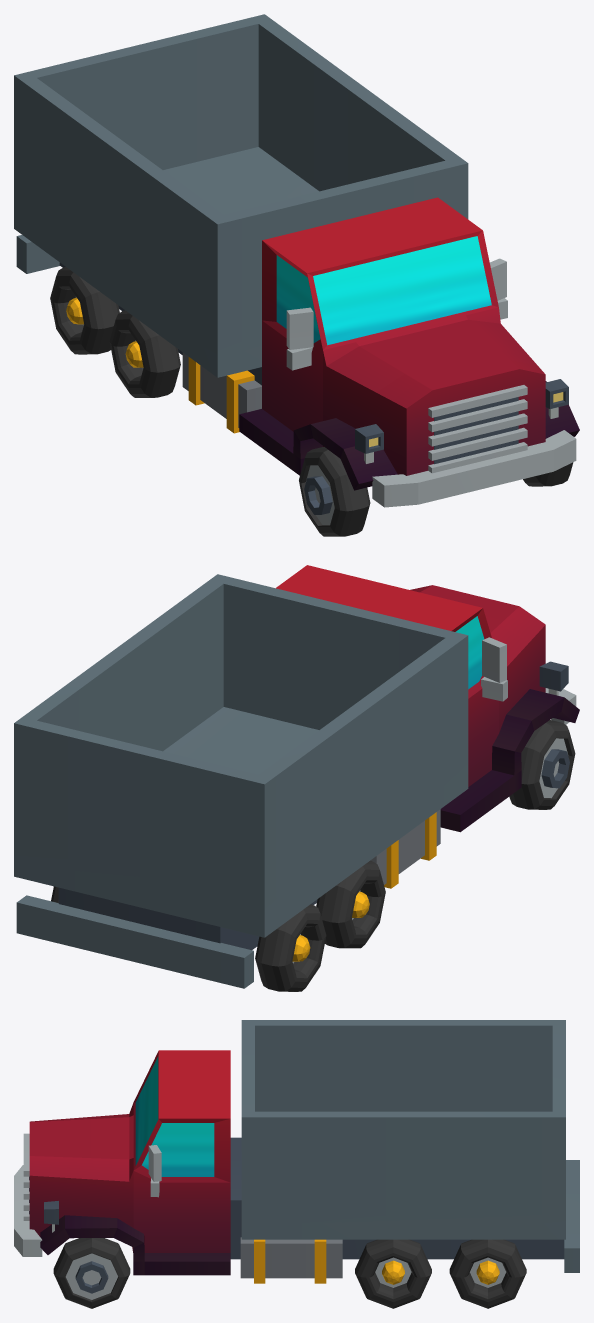
Rendered from Truck.fbx.
3 views of the same model, one above another, from view 1: azimuth 30°, elevation 25°; view 2: azimuth 150°, elevation 25°; view 3: azimuth 270°, elevation 25° (orthographic). The views are drawn at different scales.
Visible parts, largest first — view 1: Truck.014, Truck.022, Truck.024, Truck.025; view 2: Truck.014, Truck.025, Truck.024, Truck.022; view 3: Truck.014, Truck.022, Truck.025, Truck.024.
Boxes of the visible parts, x1,y1,x2,y2 form: Truck.014: [14, 14, 579, 507]; Truck.022: [299, 447, 573, 536]; Truck.024: [109, 310, 180, 397]; Truck.025: [50, 267, 119, 354]; Truck.014: [14, 565, 579, 988]; Truck.025: [51, 886, 326, 991]; Truck.024: [316, 860, 385, 948]; Truck.022: [509, 720, 575, 809]; Truck.014: [14, 1020, 579, 1283]; Truck.022: [53, 1238, 130, 1308]; Truck.025: [449, 1239, 526, 1308]; Truck.024: [355, 1239, 431, 1308].
Bounding box in the file's own units: 1.3 × 1.22 × 3.19.
